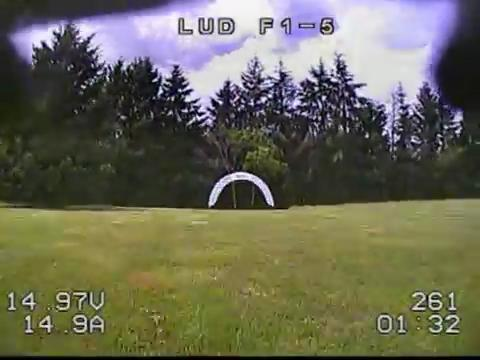gate: (206, 172, 274, 207)
